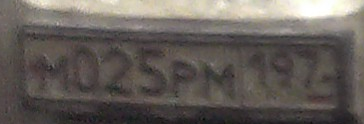character: (101, 41, 136, 100), (134, 42, 169, 98), (199, 56, 237, 106), (37, 52, 70, 98), (297, 42, 324, 97), (71, 45, 100, 95), (171, 56, 199, 101), (272, 47, 297, 93), (248, 48, 271, 91)
